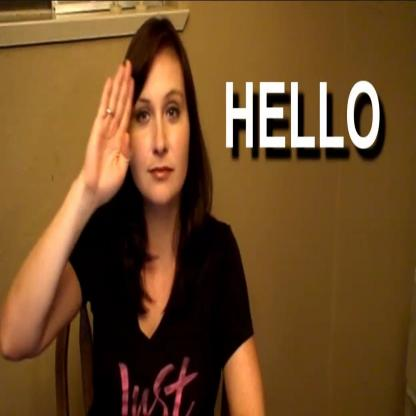Hello: (86, 19, 206, 254)
